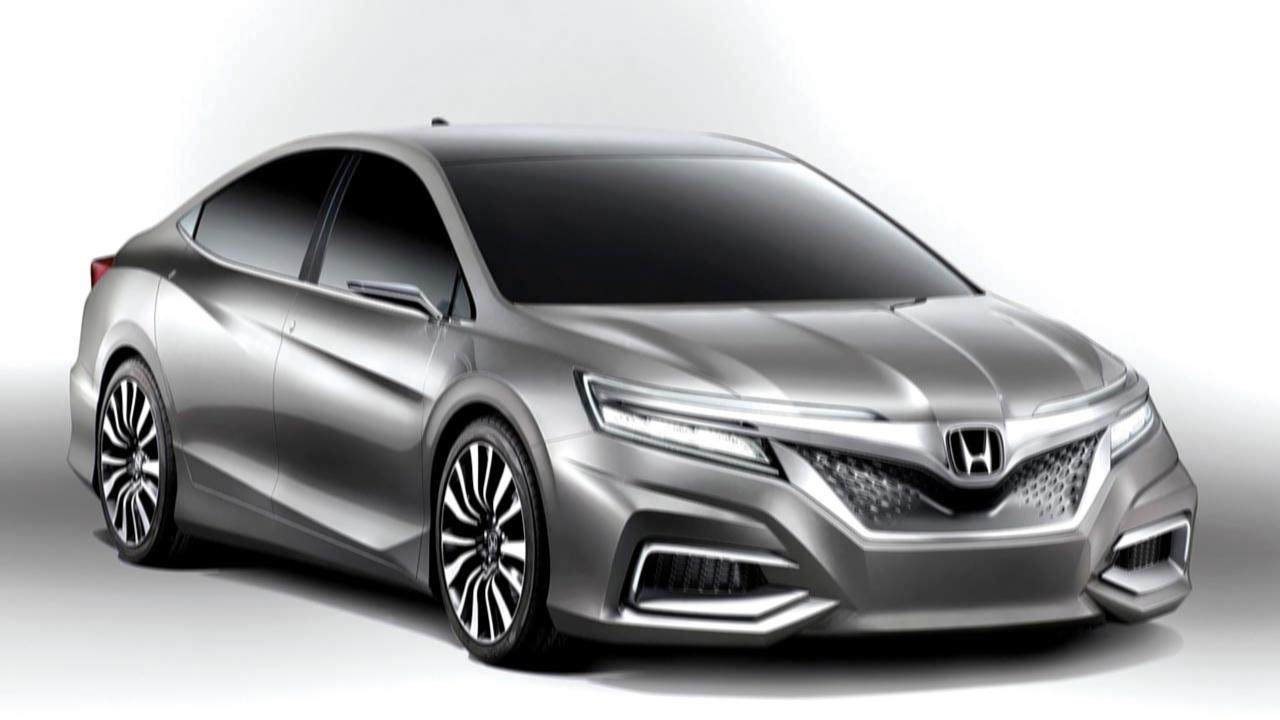Car hood: (516, 292, 1145, 420)
Driver-s door - -F-R-: (276, 130, 426, 564)
Fender - -F-R-: (412, 284, 599, 580)
Fender - -R-R-: (90, 219, 176, 522)
Front bumper: (530, 442, 1203, 658)
Headlight - -L-: (1084, 388, 1175, 466)
Headlight - -R-: (586, 386, 794, 482)
Passenger-s door - -R-R-: (152, 130, 301, 531)
Rear bumper: (60, 352, 103, 511)
Rear light - -R-: (72, 238, 132, 295)
Side bumper - -R-: (150, 448, 446, 598)
Side mirror - -R-: (336, 262, 450, 331)
